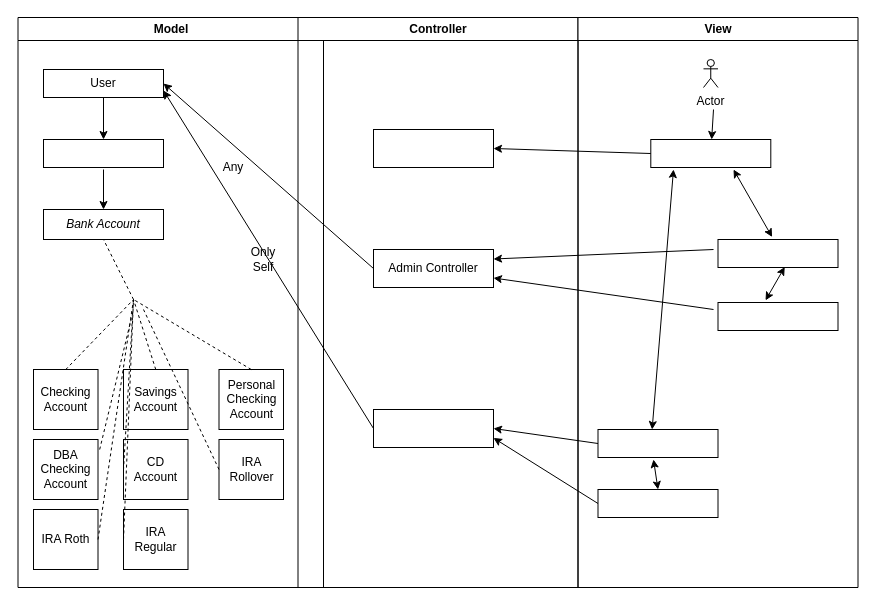
Some shapes in this 875 by 605 pixel diagram are drawn without their labels. The centre of each missing label's shape, as x and y in pixels:
Account View Page: pixel 657 503
Admin Page: pixel 777 253
Create User Page: pixel 777 316
Login Page: pixel 710 153
Security Controller: pixel 433 148
Transaction: pixel 103 153
User Controller: pixel 433 428
User Page: pixel 657 443
